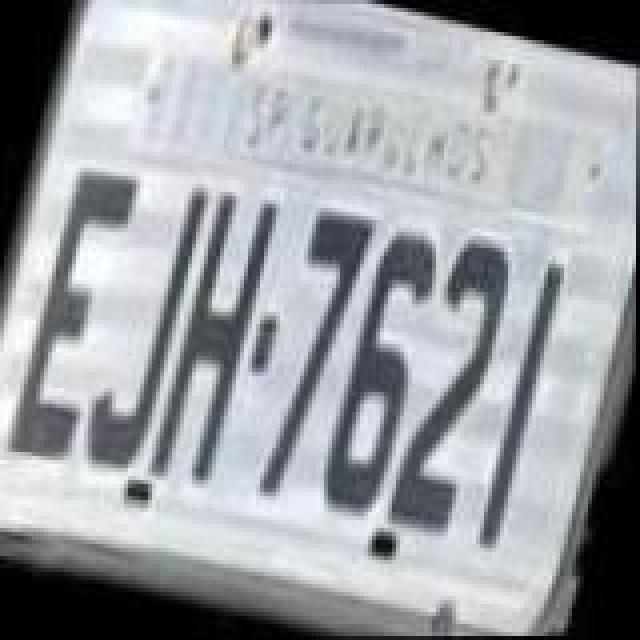1: (468, 250, 576, 558)
2: (378, 228, 522, 544)
6: (308, 218, 448, 518)
7: (236, 200, 376, 508)
E: (0, 154, 148, 470)
H: (142, 180, 282, 496)
J: (70, 164, 210, 480)
